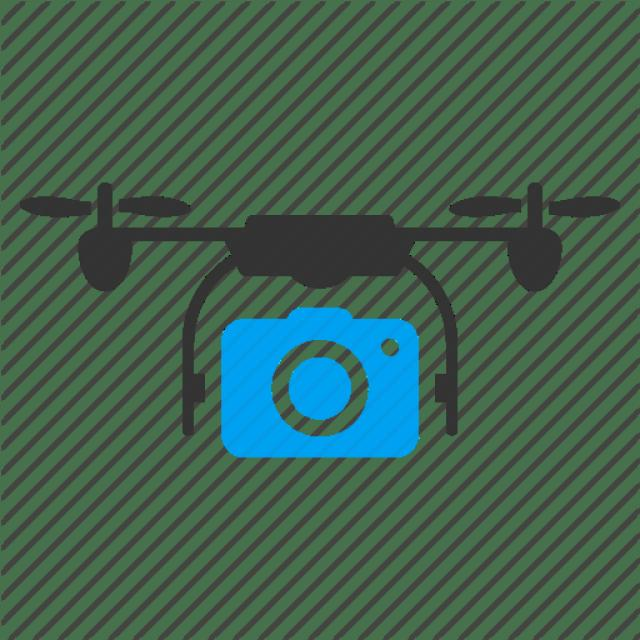drone: (8, 175, 628, 345)
